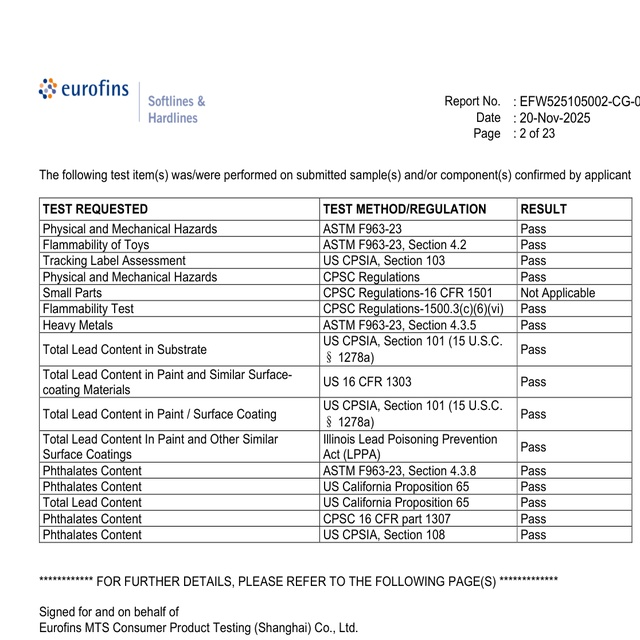eurofins: (34, 71, 136, 101)
